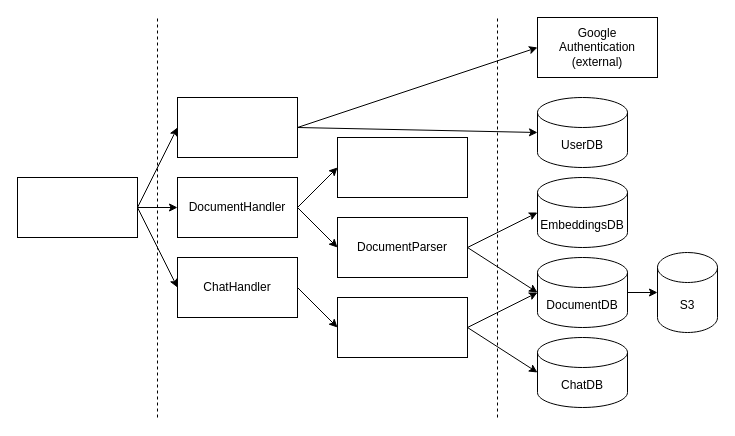
Some shapes in this 735 by 436 pixel diagram are drawn without their labels. The box of each missing label's shape, as (x1, y1, x2, y2) in pixels:
DocumentSummarizer: (336, 136, 468, 198)
Frontend: (16, 176, 138, 238)
RAGManager: (336, 296, 468, 358)
UserHandler: (176, 96, 298, 158)
